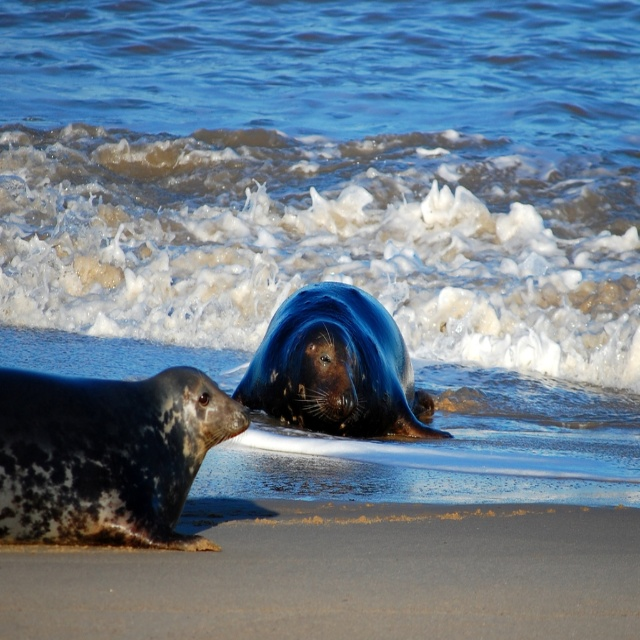Sea lion: (0, 366, 251, 552), (231, 281, 454, 442)
